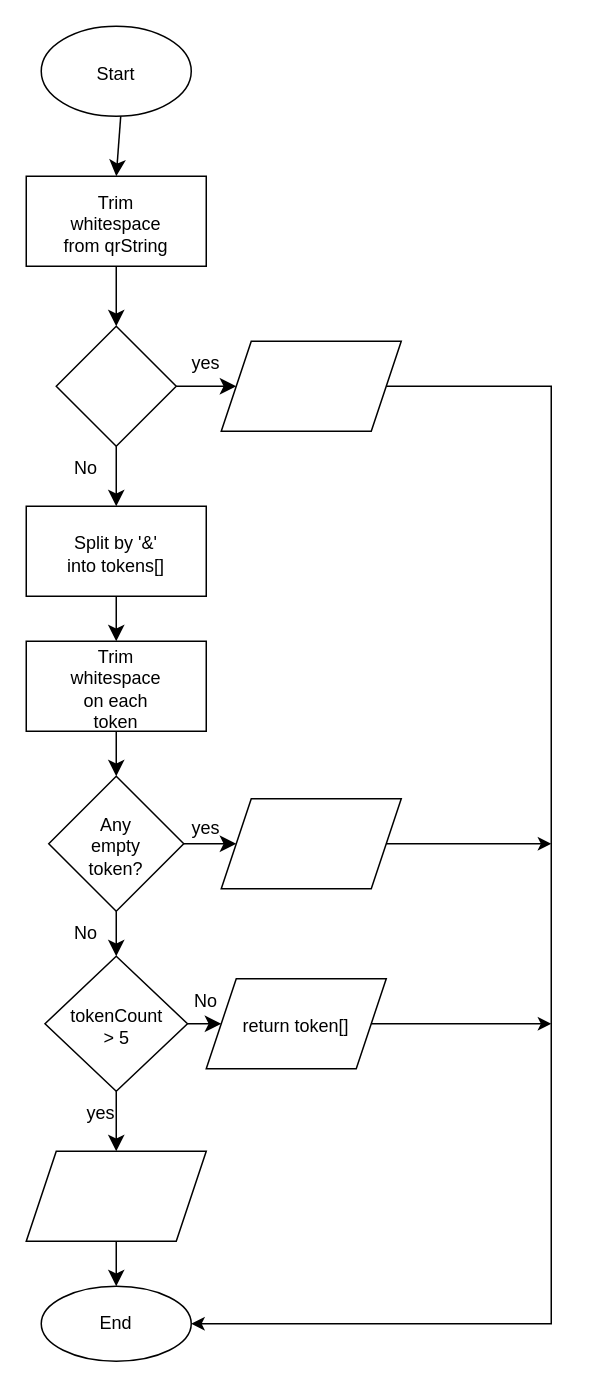
Some shapes in this 590 by 1388 pixel diagram are drawn without their labels. Here are the shapes that lost their labels. From the top down, the centre of each, then its label:
At point 115,385: "qrString empty?".
At point 310,385: "parseError: Empty QR input".
At point 310,843: "parseError: Empty command between '&'".
At point 115,1195: "parseError: Too many shapes (max5)".
